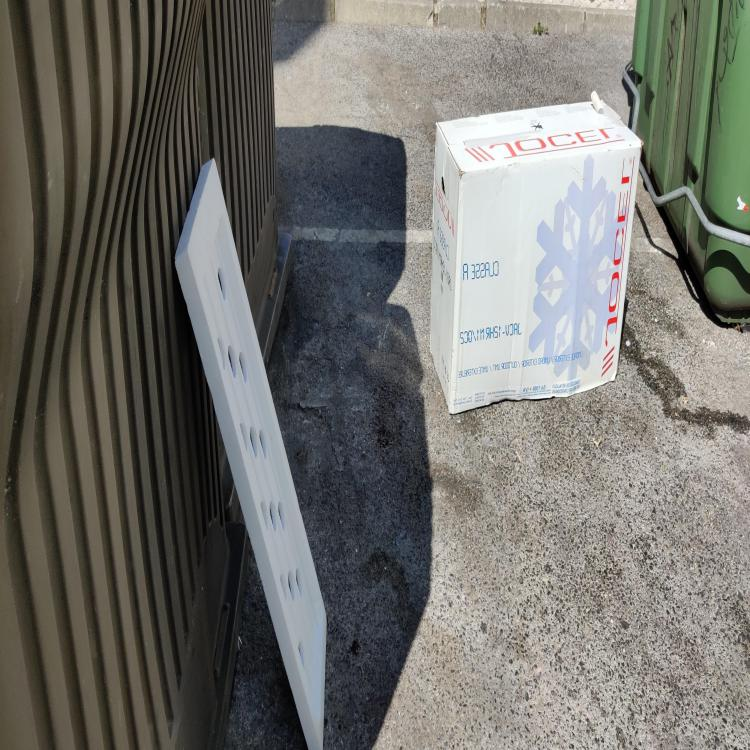Corrugated carton: (430, 91, 642, 414)
Styrofoam piece: (174, 158, 327, 750)
